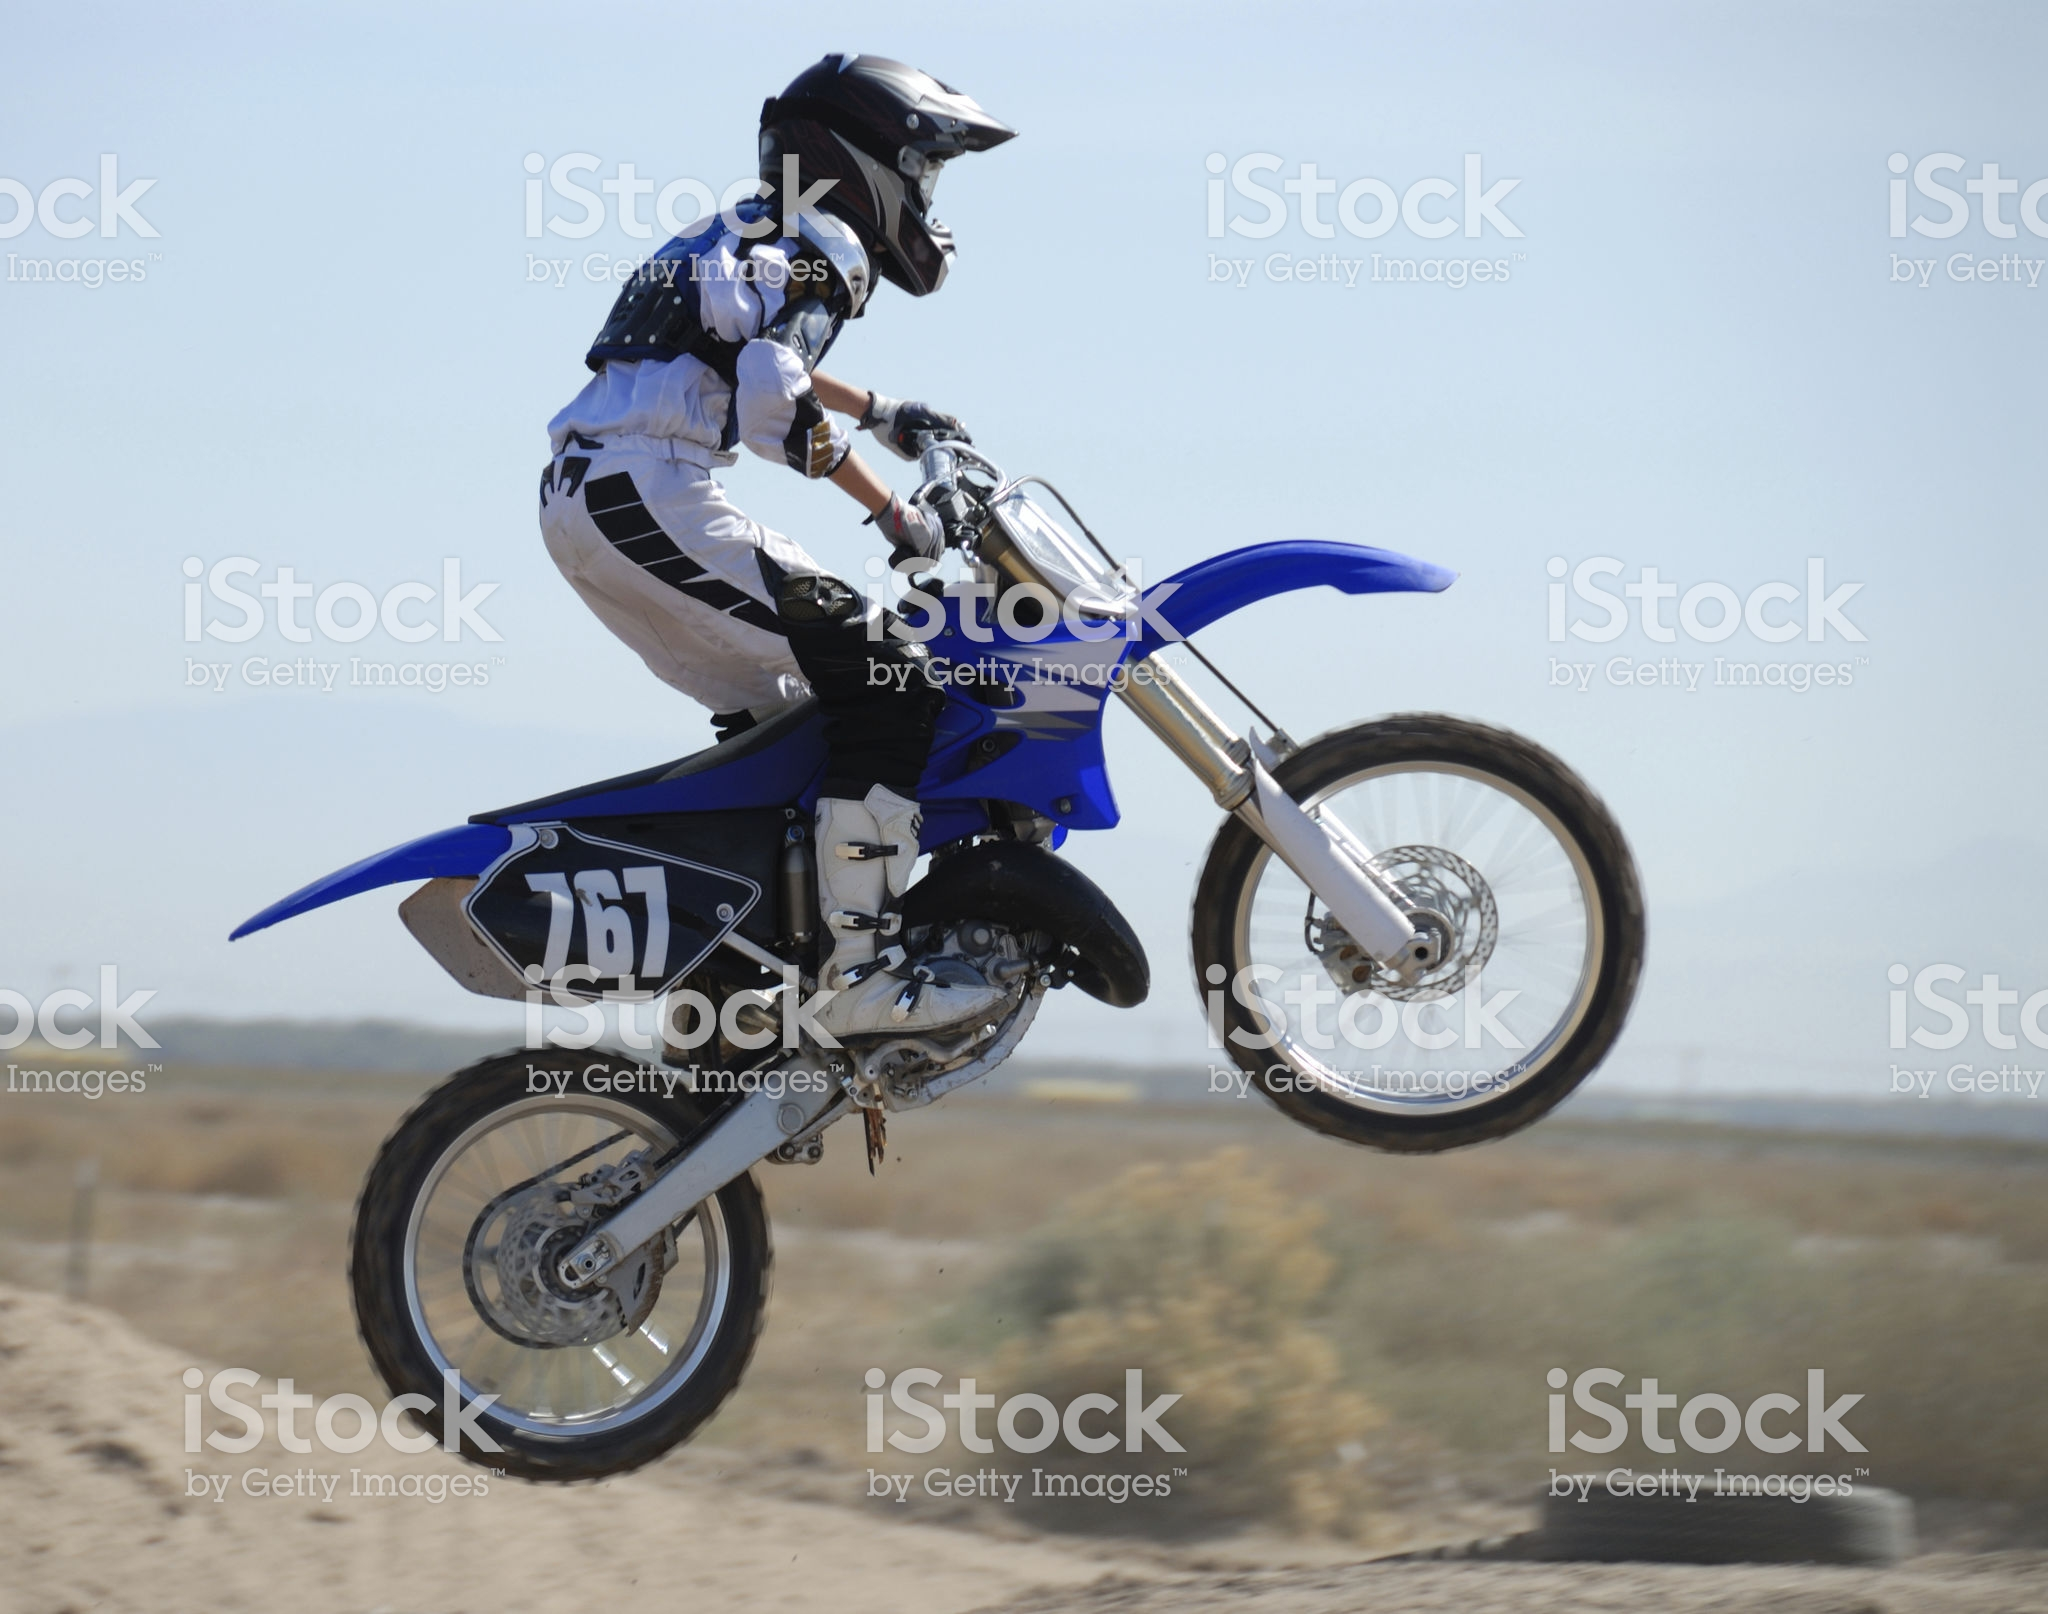helmet: (756, 60, 1014, 303)
